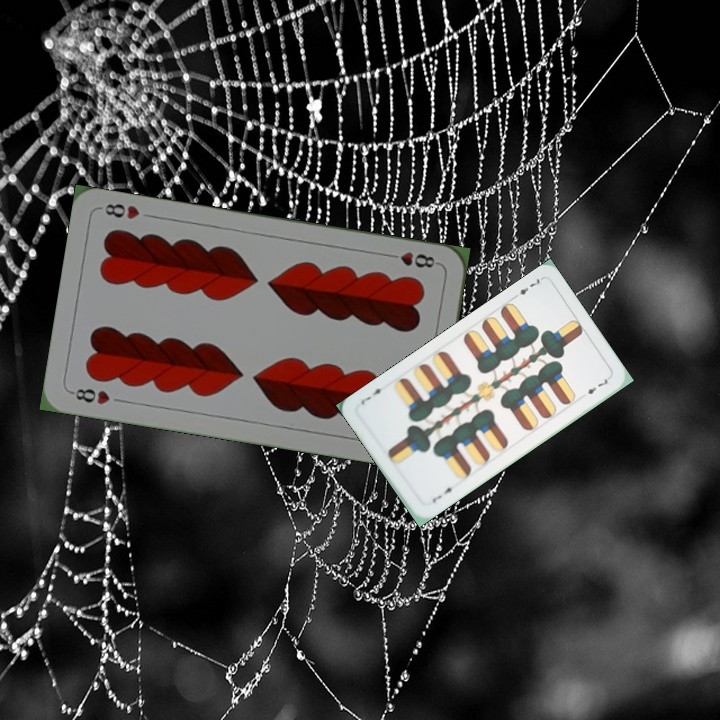E7: (509, 274, 545, 301), (428, 483, 458, 506)
H8: (383, 248, 442, 271), (67, 384, 113, 407)
